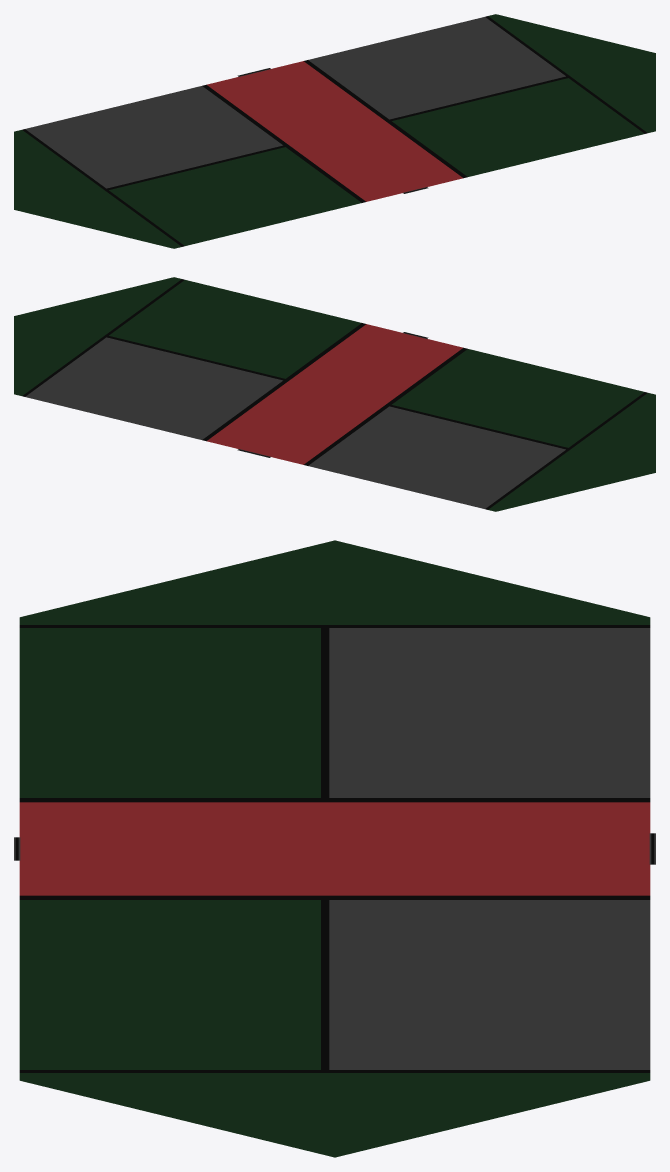
File: Chao_Lobby_PrimeiroAndar.gltf
The picture shows the model from 3 angles, top to bottom: view 1: azimuth 30°, elevation 25°; view 2: azimuth 150°, elevation 25°; view 3: azimuth 270°, elevation 25°; orthographic projection. The views are drawn at different scales.
Visible parts, largest first — view 1: Chao; view 2: Chao; view 3: Chao.
Part boxes in pixels (<box>): Chao: <box>14,14,655,248</box>; Chao: <box>14,277,655,511</box>; Chao: <box>14,540,655,1157</box>.
Bounding box in the file's own units: 79.4 × 0.00498 × 34.9.
Materials: 1 (1 with a texture image).
